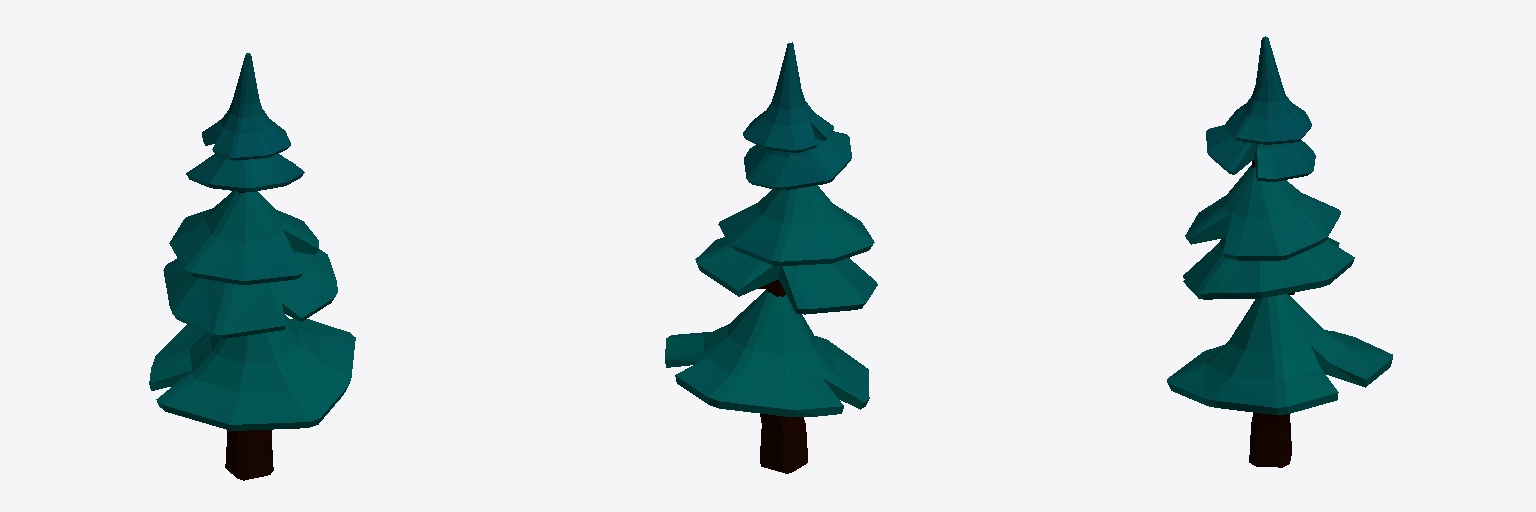
3 views of the same model, side by side, from view 1: azimuth 30°, elevation 25°; view 2: azimuth 150°, elevation 25°; view 3: azimuth 270°, elevation 25° (orthographic).
Visible parts, largest first — view 1: tree_pine_SC_04_pine_tree_red_mat_0; view 2: tree_pine_SC_04_pine_tree_red_mat_0; view 3: tree_pine_SC_04_pine_tree_red_mat_0.
Part boxes in pixels (bbox=[...]): tree_pine_SC_04_pine_tree_red_mat_0: bbox=[149, 53, 355, 480]; tree_pine_SC_04_pine_tree_red_mat_0: bbox=[665, 42, 877, 473]; tree_pine_SC_04_pine_tree_red_mat_0: bbox=[1167, 36, 1392, 467].
Bounding box in the file's own units: 54.48 × 112 × 54.36.
Materials: 2 (1 with a texture image).